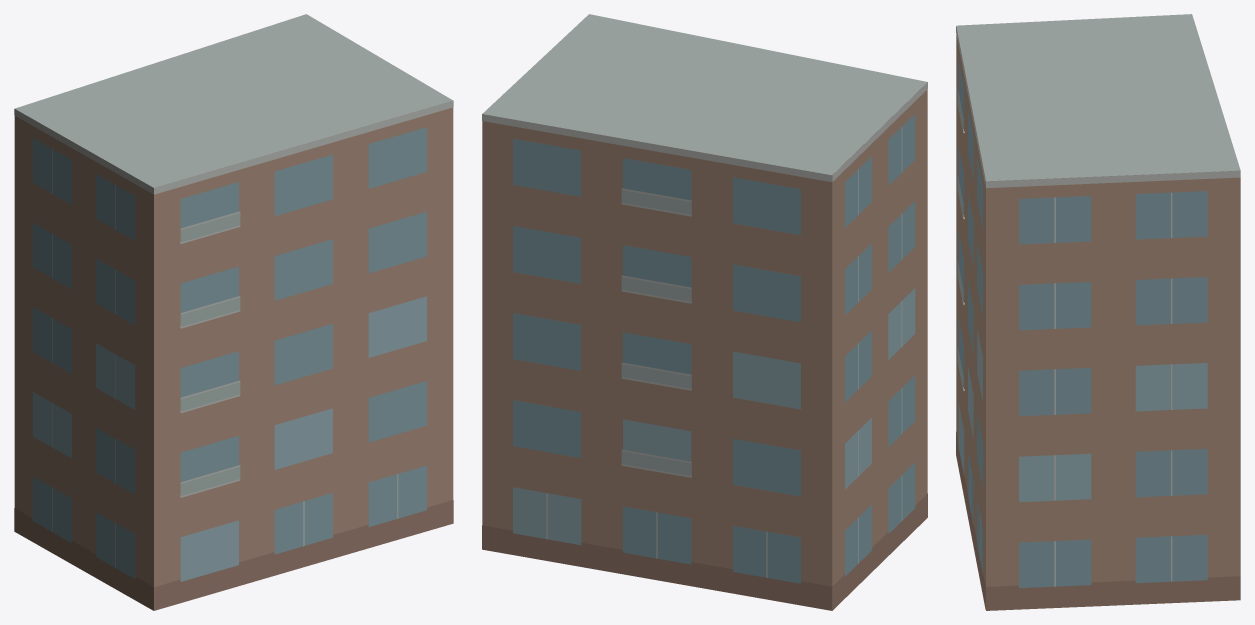
File: survey-upis-32743560.glb
3 views of the same model, side by side, from view 1: azimuth 30°, elevation 25°; view 2: azimuth 150°, elevation 25°; view 3: azimuth 270°, elevation 25° (orthographic). The views are drawn at different scales.
Visible parts, largest first — view 1: survey-upis-32743560.tmp; view 2: survey-upis-32743560.tmp; view 3: survey-upis-32743560.tmp.
Part boxes in pixels (bbox=[...]): survey-upis-32743560.tmp: bbox=[14, 14, 453, 610]; survey-upis-32743560.tmp: bbox=[482, 14, 927, 610]; survey-upis-32743560.tmp: bbox=[956, 14, 1240, 610].
Bounding box in the file's own units: 12.75 × 15.25 × 9.17.
